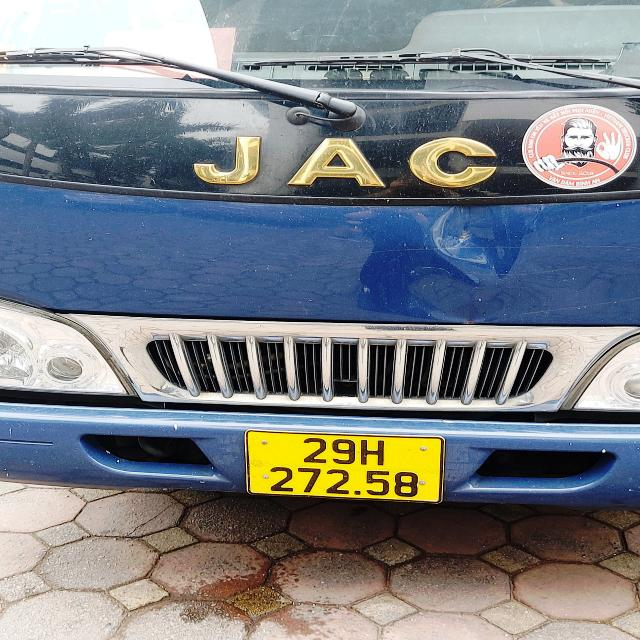license_plate: (248, 432, 442, 503)
